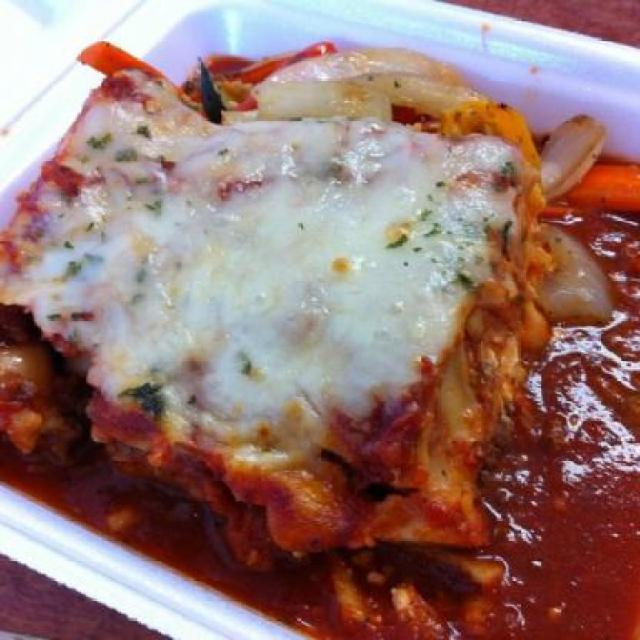Lasagna: (33, 49, 576, 560)
